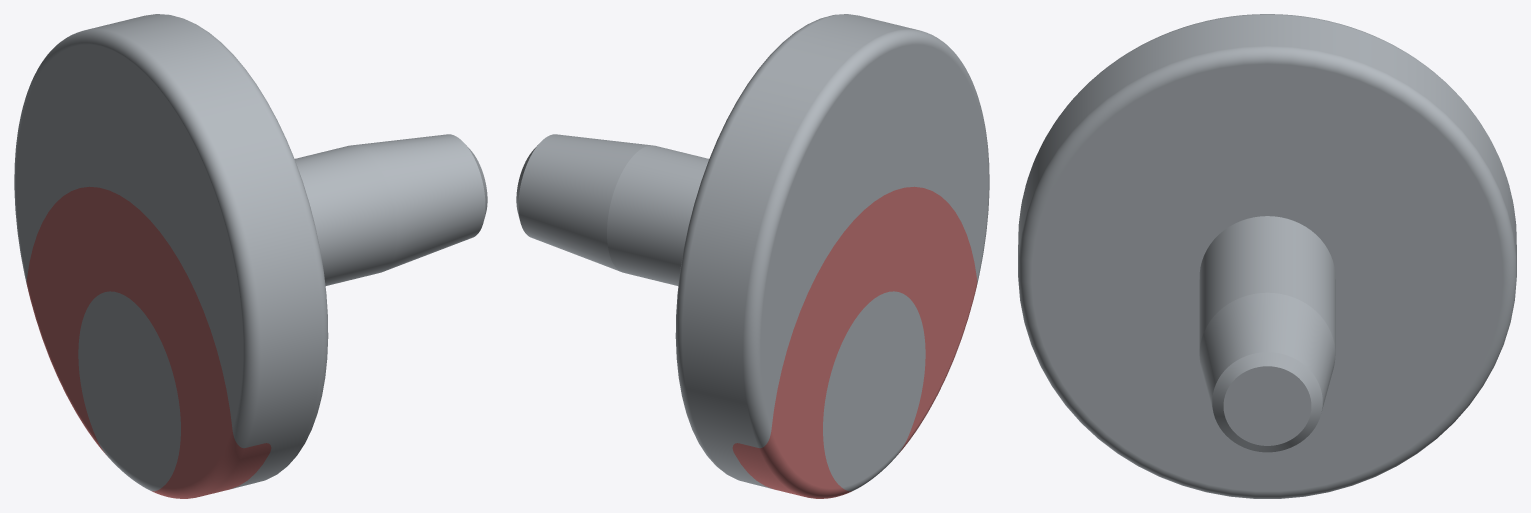
The model's file is step_03.glb.
3 views of the same model, side by side, from view 1: azimuth 30°, elevation 25°; view 2: azimuth 150°, elevation 25°; view 3: azimuth 270°, elevation 25° (orthographic). The views are drawn at different scales.
Visible parts, largest first — view 1: part__crank, removed__crank; view 2: part__crank, removed__crank; view 3: part__crank.
Boxes of the visible parts, x1,y1,x2,y2 form: part__crank: (14, 14, 487, 491); removed__crank: (26, 186, 271, 498); part__crank: (516, 14, 989, 491); removed__crank: (732, 186, 977, 498); part__crank: (1018, 14, 1516, 498).
Bounding box in the file's own units: 44.5 × 55 × 54.99.
